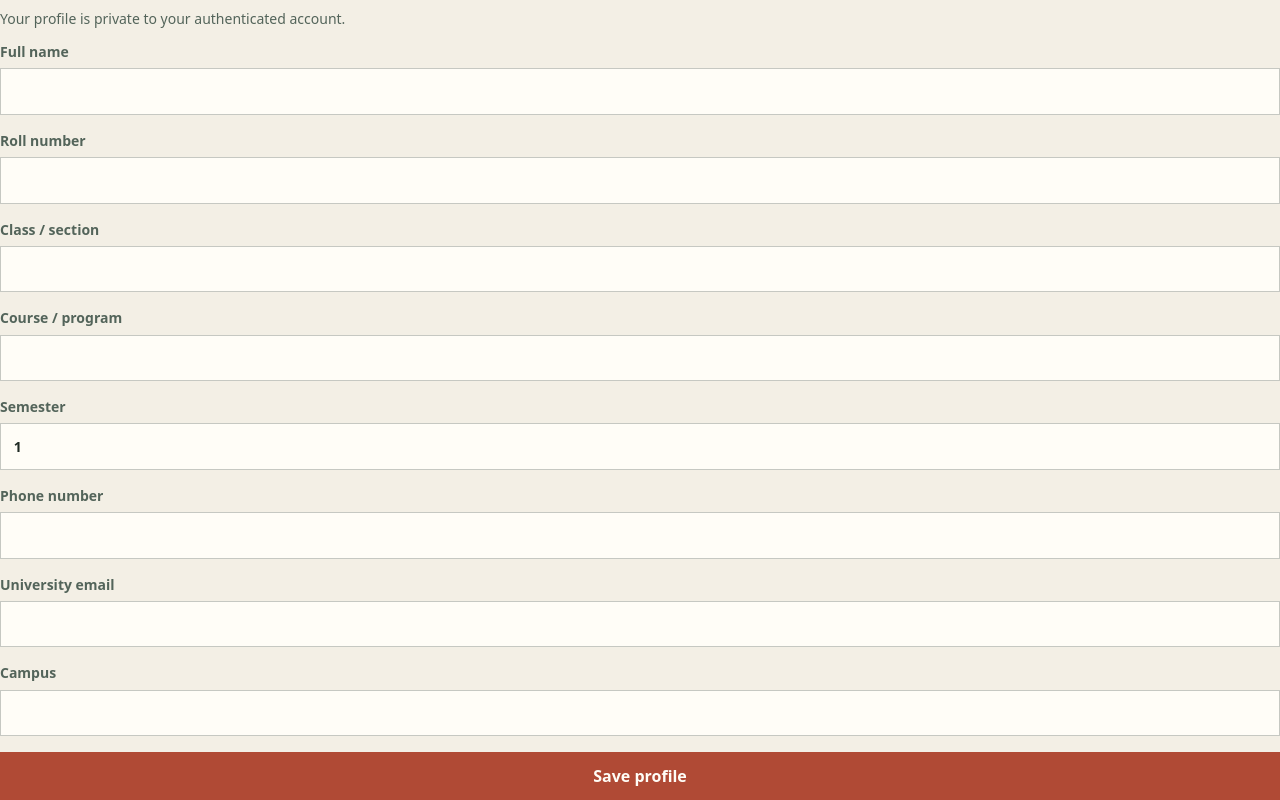
Scenario: ProfileForm › shows field-level messages and skips the API when required fields are empty
The width and height of the screenshot is (1280, 800).
(page scrolled)
Click the button "Save profile": (640, 776) [0,752,1279,799]
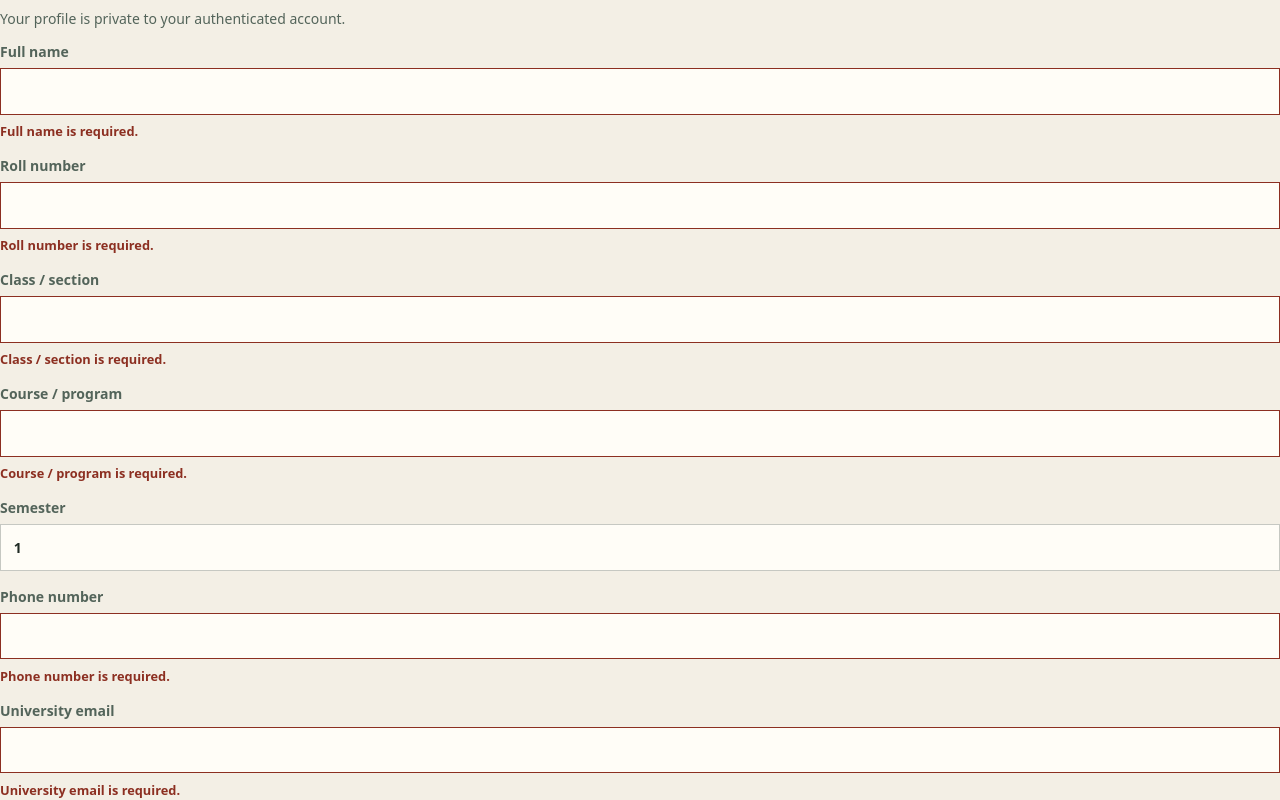
expect the text "Full name is required." is shown: met, box [0,122,138,140]
expect the text "Roll number is required." is shown: met, box [0,236,154,254]
expect the text "University email is required." is shown: met, box [0,781,180,799]
